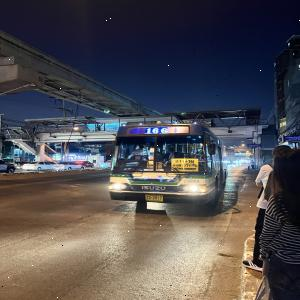BMTA-bus: (109, 119, 228, 217)
Bus Line Number: (142, 125, 172, 134)
Bus Side Number: (182, 179, 201, 184)
Destination Sign: (170, 158, 199, 172)
